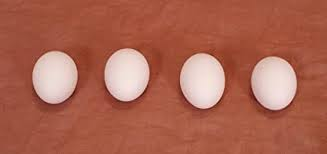eggs: (248, 49, 308, 116), (105, 42, 158, 116), (177, 48, 224, 114), (26, 45, 73, 96)
